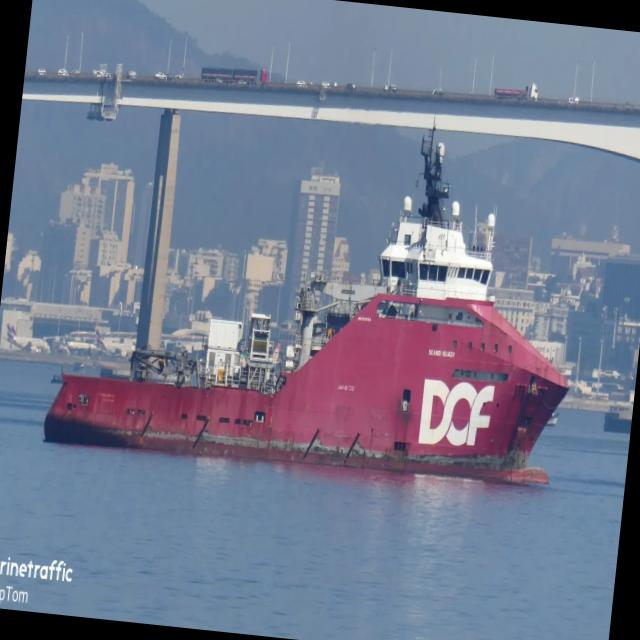Offshore: (43, 127, 568, 483)
